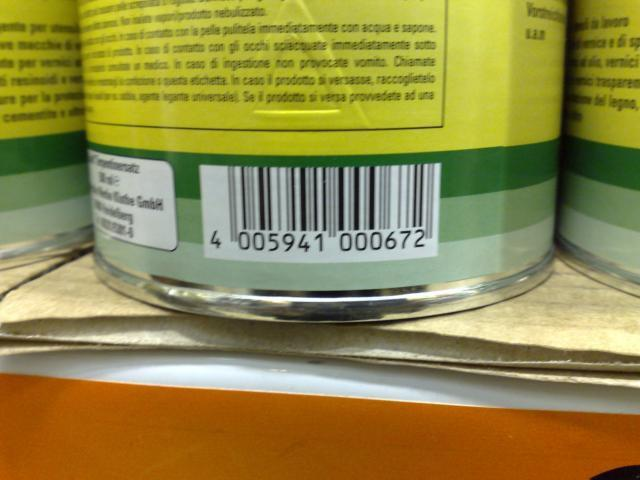Barcode: (200, 162, 441, 261)
